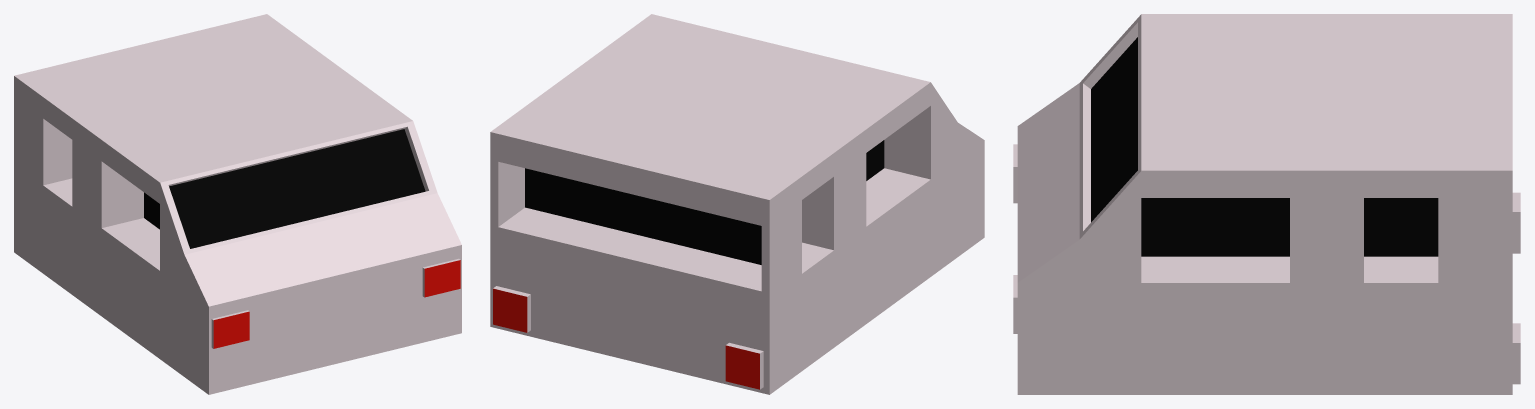
The model's file is car.fbx.
The picture shows the model from 3 angles, left to right: view 1: azimuth 30°, elevation 25°; view 2: azimuth 150°, elevation 25°; view 3: azimuth 270°, elevation 25°; orthographic projection. The views are drawn at different scales.
Parts seen in each view (by area): view 1: Chassis; view 2: Chassis; view 3: Chassis.
Part boxes in pixels (x1,y1,x2,y2): Chassis: (14,14,461,394); Chassis: (490,14,984,394); Chassis: (1013,14,1520,394).
Bounding box in the file's own units: 600 × 400 × 820.
